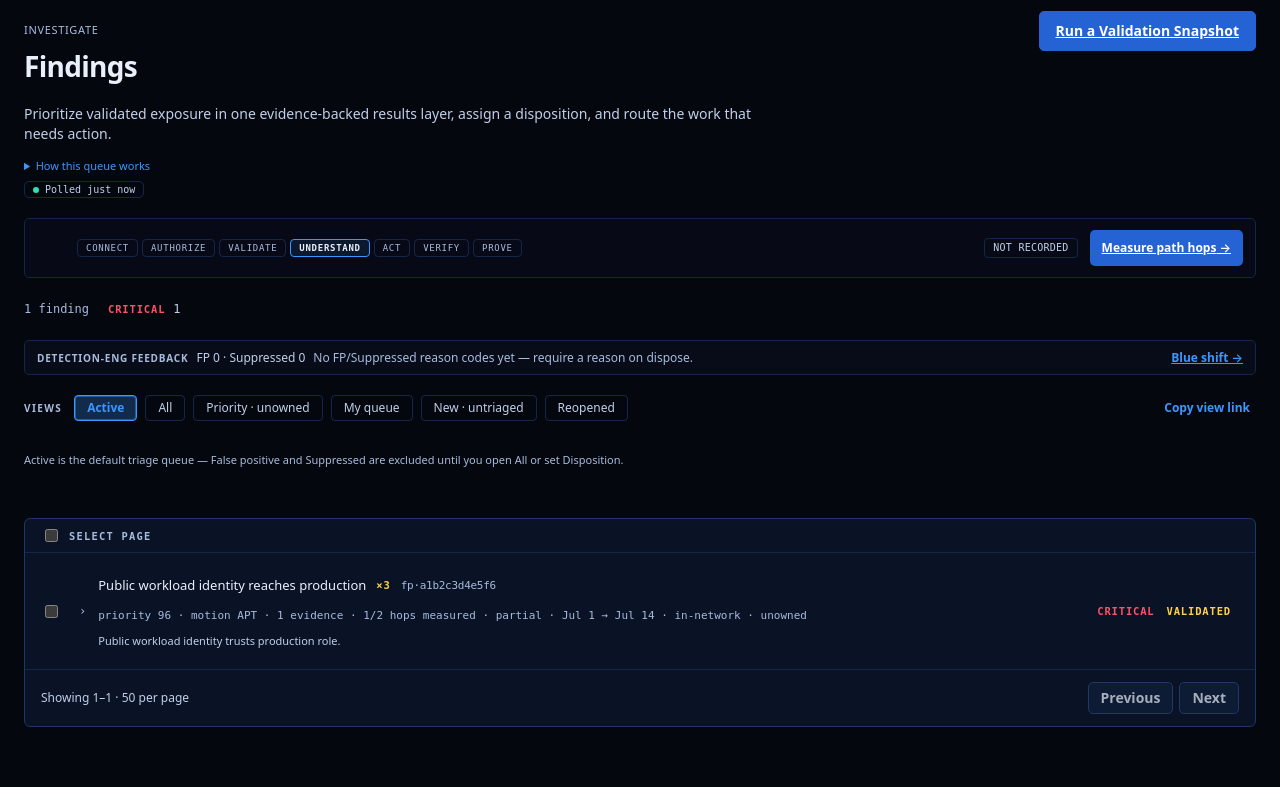
Test case: FindingsWorkbench v2 › never displays raw Validated validation state for path-linked partial measurement [UX-W11]
Click the button with aria-label "Expand finding: Public workload identity reaches production": (656, 611) [73,562,1239,660]
(page scrolled)
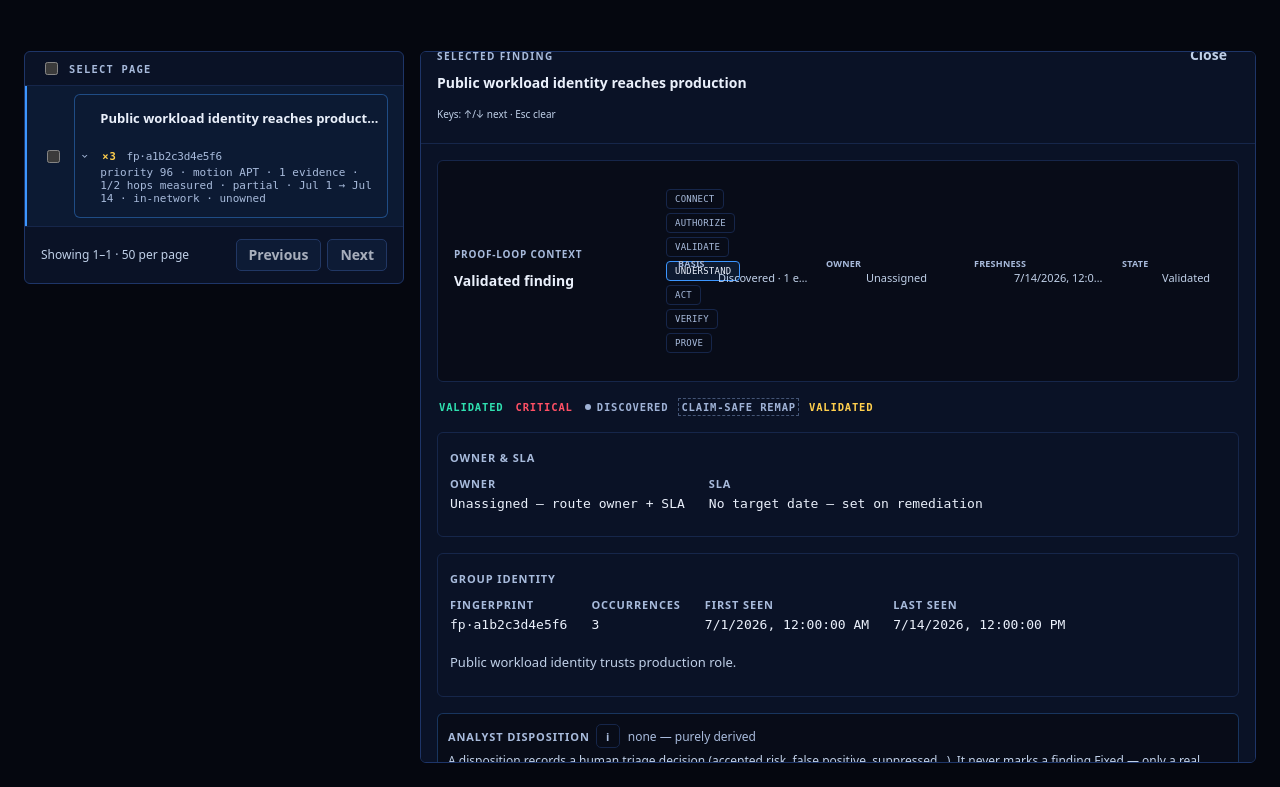
Check: the element with test id "finding-claim-safe-validation-state" does not show "Validated", box [583,398,670,416]
Check: the element with test id "finding-claim-safe-validation-state" reads "Discovered", box [597,401,668,413]
Check: the text with test id "finding-claim-safe-remap-note" reads "claim-safe remap", box [681,401,796,413]
